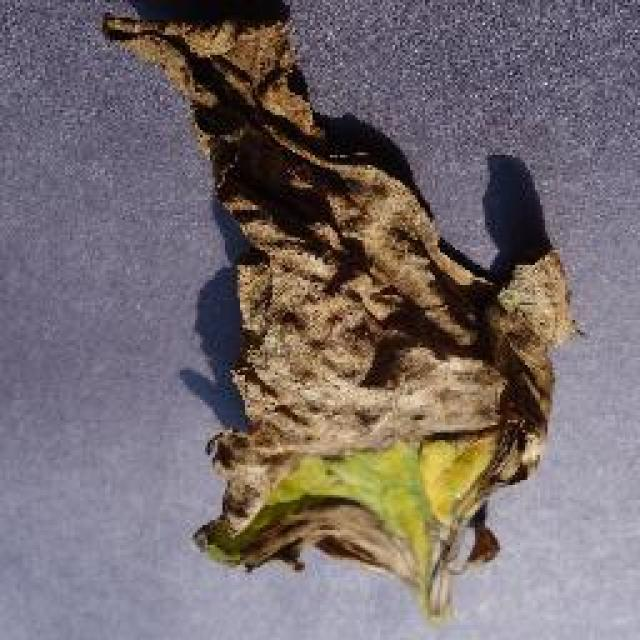Tomato Late Blight: (81, 8, 612, 437)
